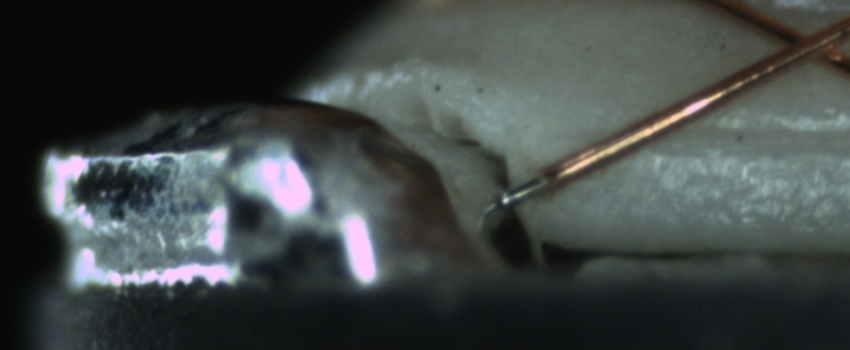CL: (756, 11, 847, 73)
DL: (633, 100, 843, 177)
TS: (501, 172, 550, 207)
TTCW: (499, 152, 581, 204)
